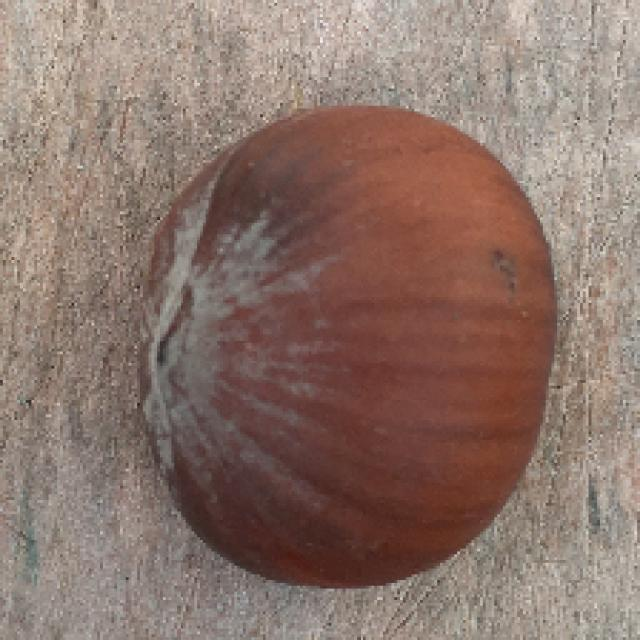damagedHazelnut: (134, 100, 572, 594)
